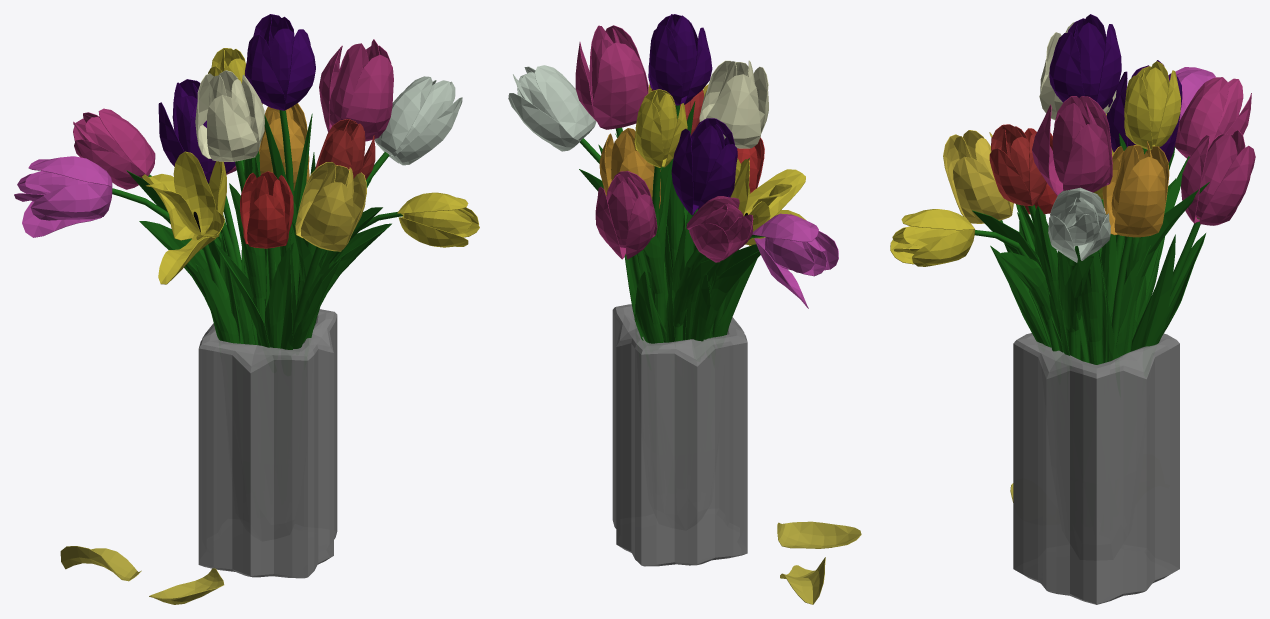
Rendered from tulips.obj.
3 renders of one model, left to right at view 1: azimuth 30°, elevation 25°; view 2: azimuth 150°, elevation 25°; view 3: azimuth 270°, elevation 25°, orthographic. The views are drawn at different scales.
Parts seen in each view (by area): view 1: tulpaner_Plane.013, vas_Cube.001; view 2: tulpaner_Plane.013, vas_Cube.001; view 3: tulpaner_Plane.013, vas_Cube.001.
Boxes of the visible parts, x1,y1,x2,y2 form: tulpaner_Plane.013: [14, 14, 479, 604]; vas_Cube.001: [198, 309, 337, 578]; tulpaner_Plane.013: [508, 14, 861, 604]; vas_Cube.001: [612, 304, 747, 566]; tulpaner_Plane.013: [890, 14, 1255, 502]; vas_Cube.001: [1013, 333, 1179, 604].
Bounding box in the file's own units: 31.82 × 42.72 × 25.25.
